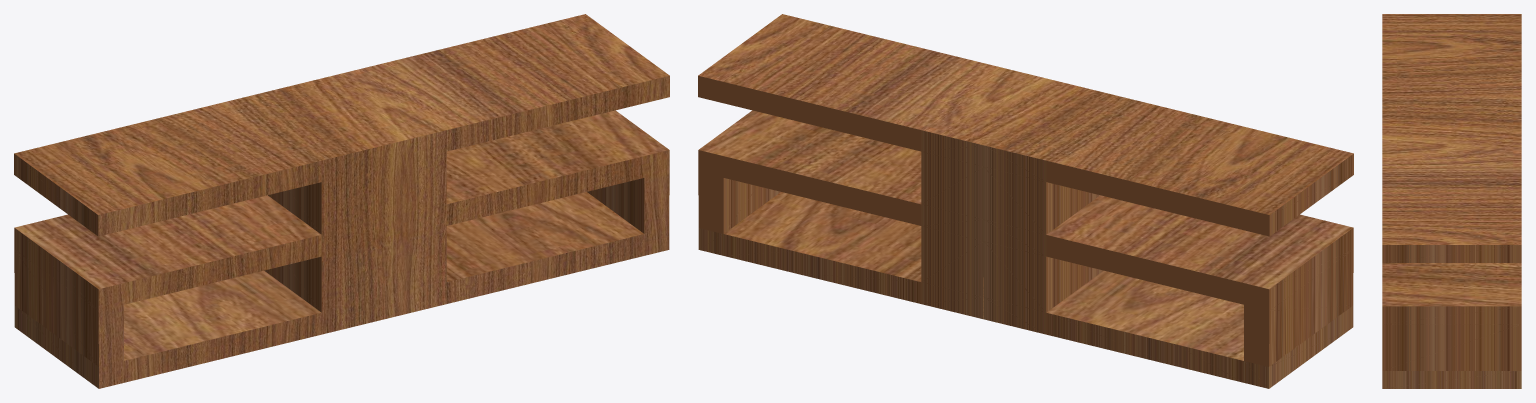
File: muebletele.fbx
3 views of the same model, side by side, from view 1: azimuth 30°, elevation 25°; view 2: azimuth 150°, elevation 25°; view 3: azimuth 270°, elevation 25° (orthographic). The views are drawn at different scales.
Parts seen in each view (by area): view 1: Plane; view 2: Plane; view 3: Plane.
Part boxes in pixels (x1,y1,x2,y2): Plane: [14, 14, 669, 388]; Plane: [698, 14, 1353, 388]; Plane: [1382, 14, 1521, 388].
Bounding box in the file's own units: 946 × 275 × 242.
